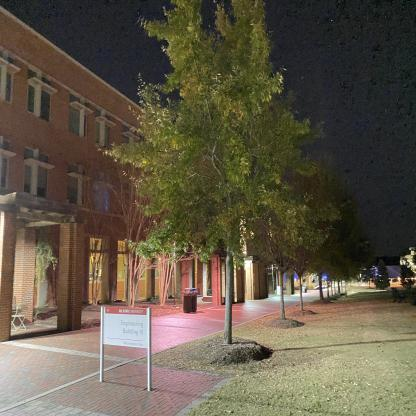eb2: (2, 18, 296, 300)
